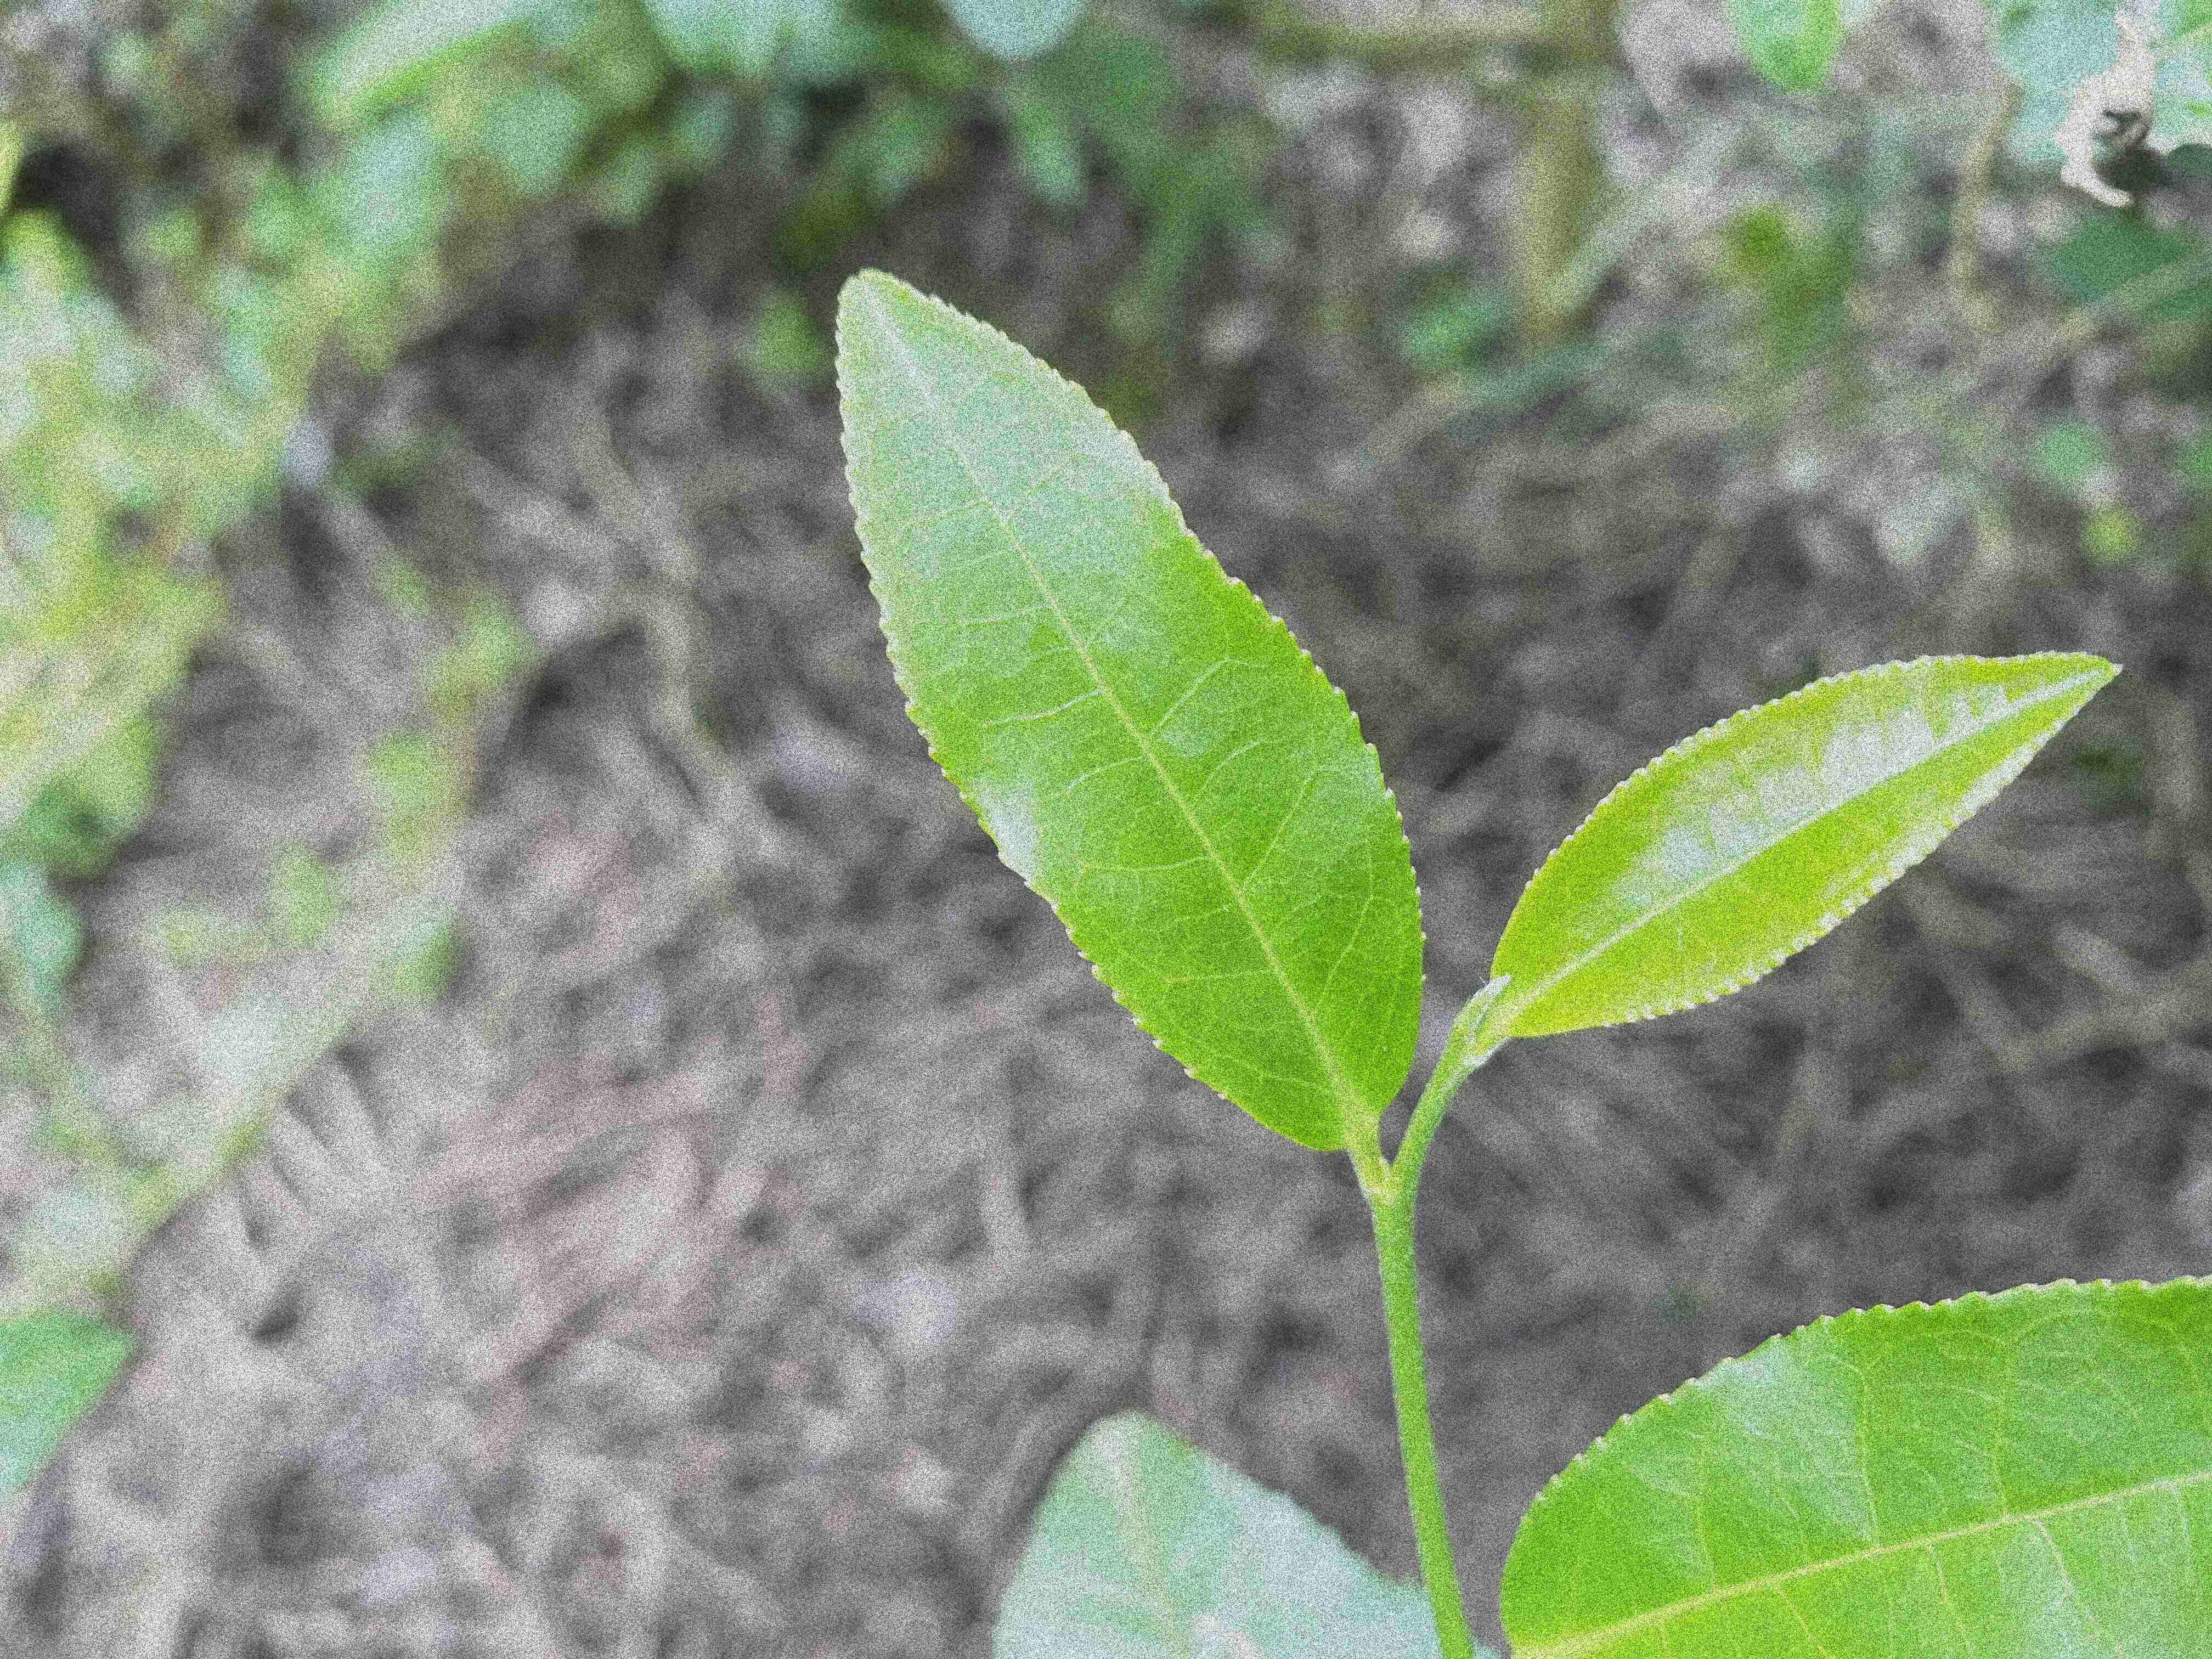healthy: (827, 267, 1433, 1154), (1496, 1272, 2209, 1657), (1482, 645, 2123, 1040)
